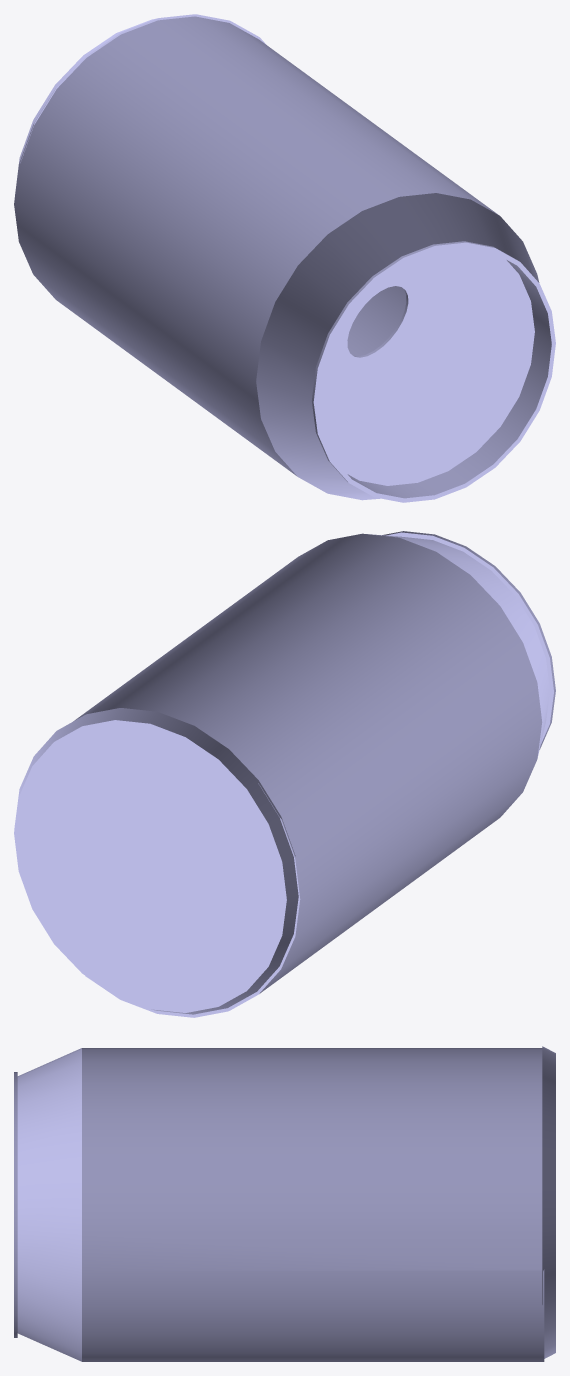
The model's file is model_scale.obj.
3 renders of one model, top to bottom at view 1: azimuth 30°, elevation 25°; view 2: azimuth 150°, elevation 25°; view 3: azimuth 270°, elevation 25°, orthographic. The views are drawn at different scales.
Visible parts, largest first — view 1: mesh1_mesh1-geometry; view 2: mesh1_mesh1-geometry; view 3: mesh1_mesh1-geometry.
Part boxes in pixels (x1,y1,x2,y2): mesh1_mesh1-geometry: (14, 14, 555, 502); mesh1_mesh1-geometry: (14, 531, 555, 1017); mesh1_mesh1-geometry: (14, 1046, 555, 1361).
Bounding box in the file's own units: 0.0734 × 0.0738 × 0.1259.
